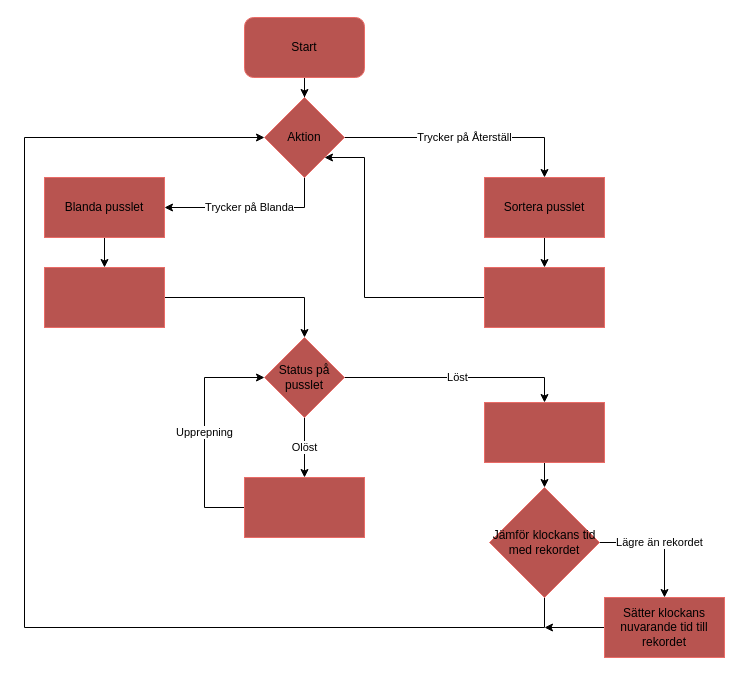
Some shapes in this 742 by 675 pixel diagram are drawn without their labels. The shapes that lost their labels are listed below. From the top down, each one's centre as x and y in pixels, then its label:
At [104,297]: "Starta klockan".
At [544,297]: "Återställ klockan".
At [544,432]: "Klockan stannar".
At [304,507]: "Flytta på en bricka".
